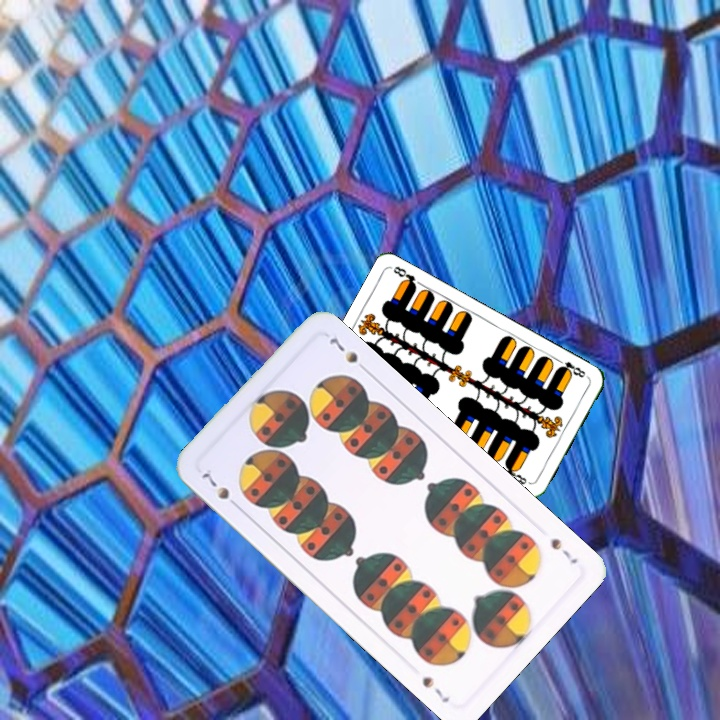E8: (553, 355, 588, 380)
S7: (198, 468, 243, 512), (546, 534, 581, 567)
